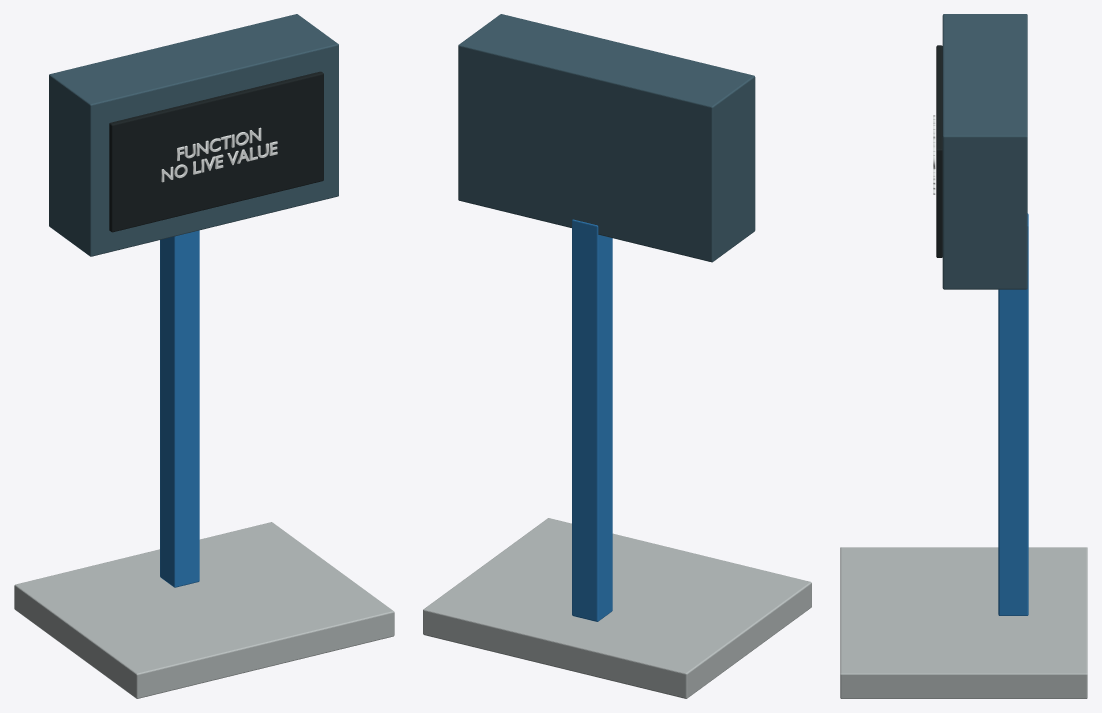
Rendered from numeric_selector_display.glb.
The picture shows the model from 3 angles, left to right: view 1: azimuth 30°, elevation 25°; view 2: azimuth 150°, elevation 25°; view 3: azimuth 270°, elevation 25°; orthographic projection. The views are drawn at different scales.
Visible parts, largest first — view 1: STATIC_READOUT_base, STATIC_READOUT_housing, STATIC_READOUT_screen, STATIC_READOUT_mast, STATIC_READOUT_static_legend; view 2: STATIC_READOUT_housing, STATIC_READOUT_base, STATIC_READOUT_mast; view 3: STATIC_READOUT_base, STATIC_READOUT_housing, STATIC_READOUT_mast, STATIC_READOUT_screen.
Part boxes in pixels (bbox=[...]): STATIC_READOUT_base: bbox=[14, 522, 394, 698]; STATIC_READOUT_housing: bbox=[49, 14, 338, 256]; STATIC_READOUT_screen: bbox=[109, 71, 323, 232]; STATIC_READOUT_mast: bbox=[160, 230, 199, 587]; STATIC_READOUT_static_legend: bbox=[161, 127, 277, 182]; STATIC_READOUT_housing: bbox=[458, 14, 755, 262]; STATIC_READOUT_base: bbox=[423, 518, 811, 698]; STATIC_READOUT_mast: bbox=[572, 219, 612, 621]; STATIC_READOUT_base: bbox=[840, 547, 1087, 698]; STATIC_READOUT_housing: bbox=[942, 14, 1027, 289]; STATIC_READOUT_mast: bbox=[998, 213, 1028, 615]; STATIC_READOUT_screen: bbox=[936, 45, 942, 257].
Size of the model in its own units: 0.85 by 1.75 by 0.7.
